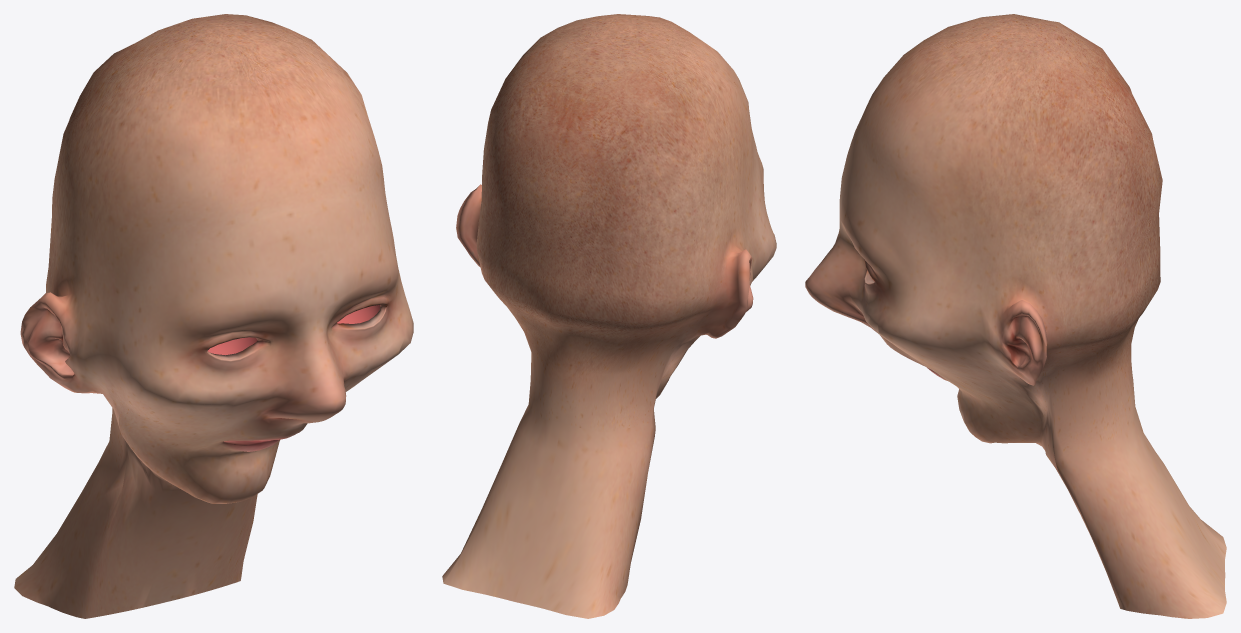
File: outlaw-10.glb
3 renders of one model, left to right at view 1: azimuth 30°, elevation 25°; view 2: azimuth 150°, elevation 25°; view 3: azimuth 270°, elevation 25°, orthographic. The views are drawn at different scales.
Parts seen in each view (by area): view 1: Starter head; view 2: Starter head; view 3: Starter head.
Boxes of the visible parts, x1,y1,x2,y2 form: Starter head: (14,14,413,618); Starter head: (442,14,776,618); Starter head: (805,14,1226,618).
Bounding box in the file's own units: 0.1805 × 0.2965 × 0.2084.
Materials: 1 (1 with a texture image).
